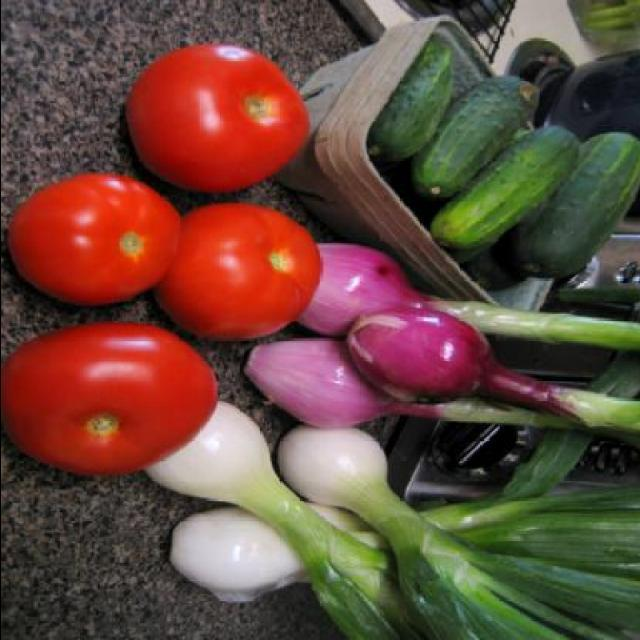Zucchini: (509, 128, 640, 280), (400, 74, 543, 202), (364, 37, 459, 166)
